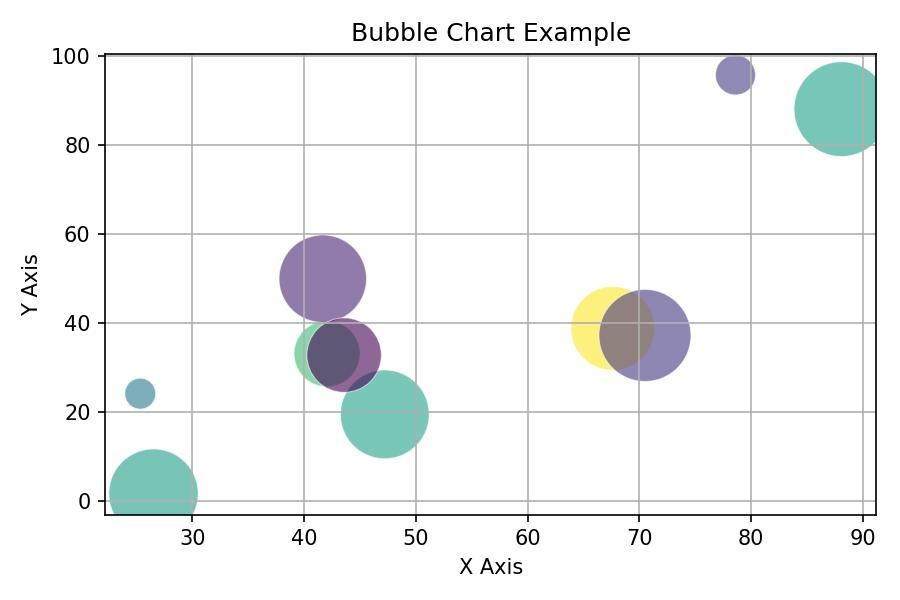axis: (80, 503, 890, 550), (53, 35, 116, 534)
circle: (603, 290, 693, 383), (278, 231, 369, 322), (342, 370, 429, 458), (795, 63, 877, 156), (574, 288, 653, 372), (106, 448, 200, 517), (310, 318, 382, 389), (714, 55, 755, 94), (125, 377, 156, 408)
